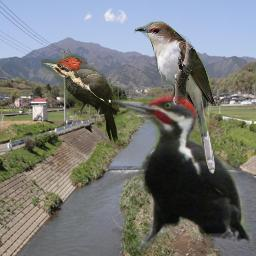Cuckoo: (133, 21, 216, 175)
Woodpecker: (112, 85, 253, 252), (41, 53, 126, 145)
